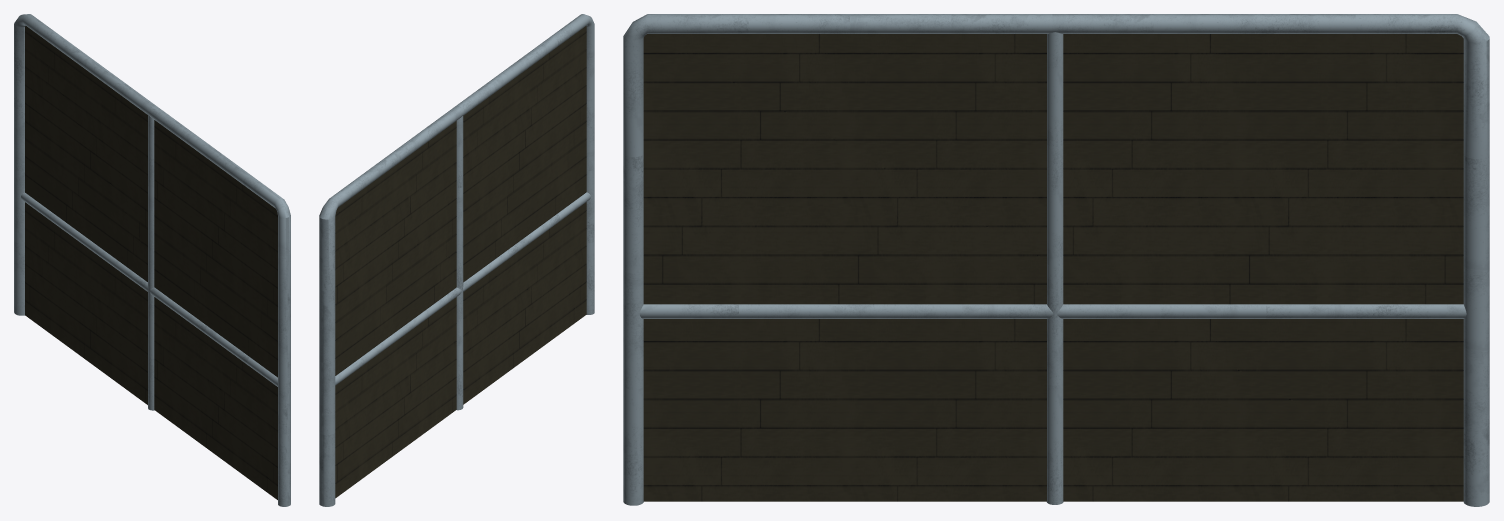
File: MeshFence.fbx
3 renders of one model, left to right at view 1: azimuth 30°, elevation 25°; view 2: azimuth 150°, elevation 25°; view 3: azimuth 270°, elevation 25°, orthographic. The views are drawn at different scales.
Visible parts, largest first — view 1: Meshfence; view 2: Meshfence; view 3: Meshfence.
Part boxes in pixels (left/top/right/bottom): Meshfence: left=14, top=14, right=290, bottom=506; Meshfence: left=319, top=14, right=594, bottom=506; Meshfence: left=623, top=14, right=1489, bottom=506.
Bounding box in the file's own units: 12.47 × 255 × 411.
